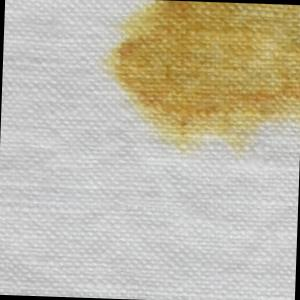Oil Stain: (99, 1, 300, 160)
